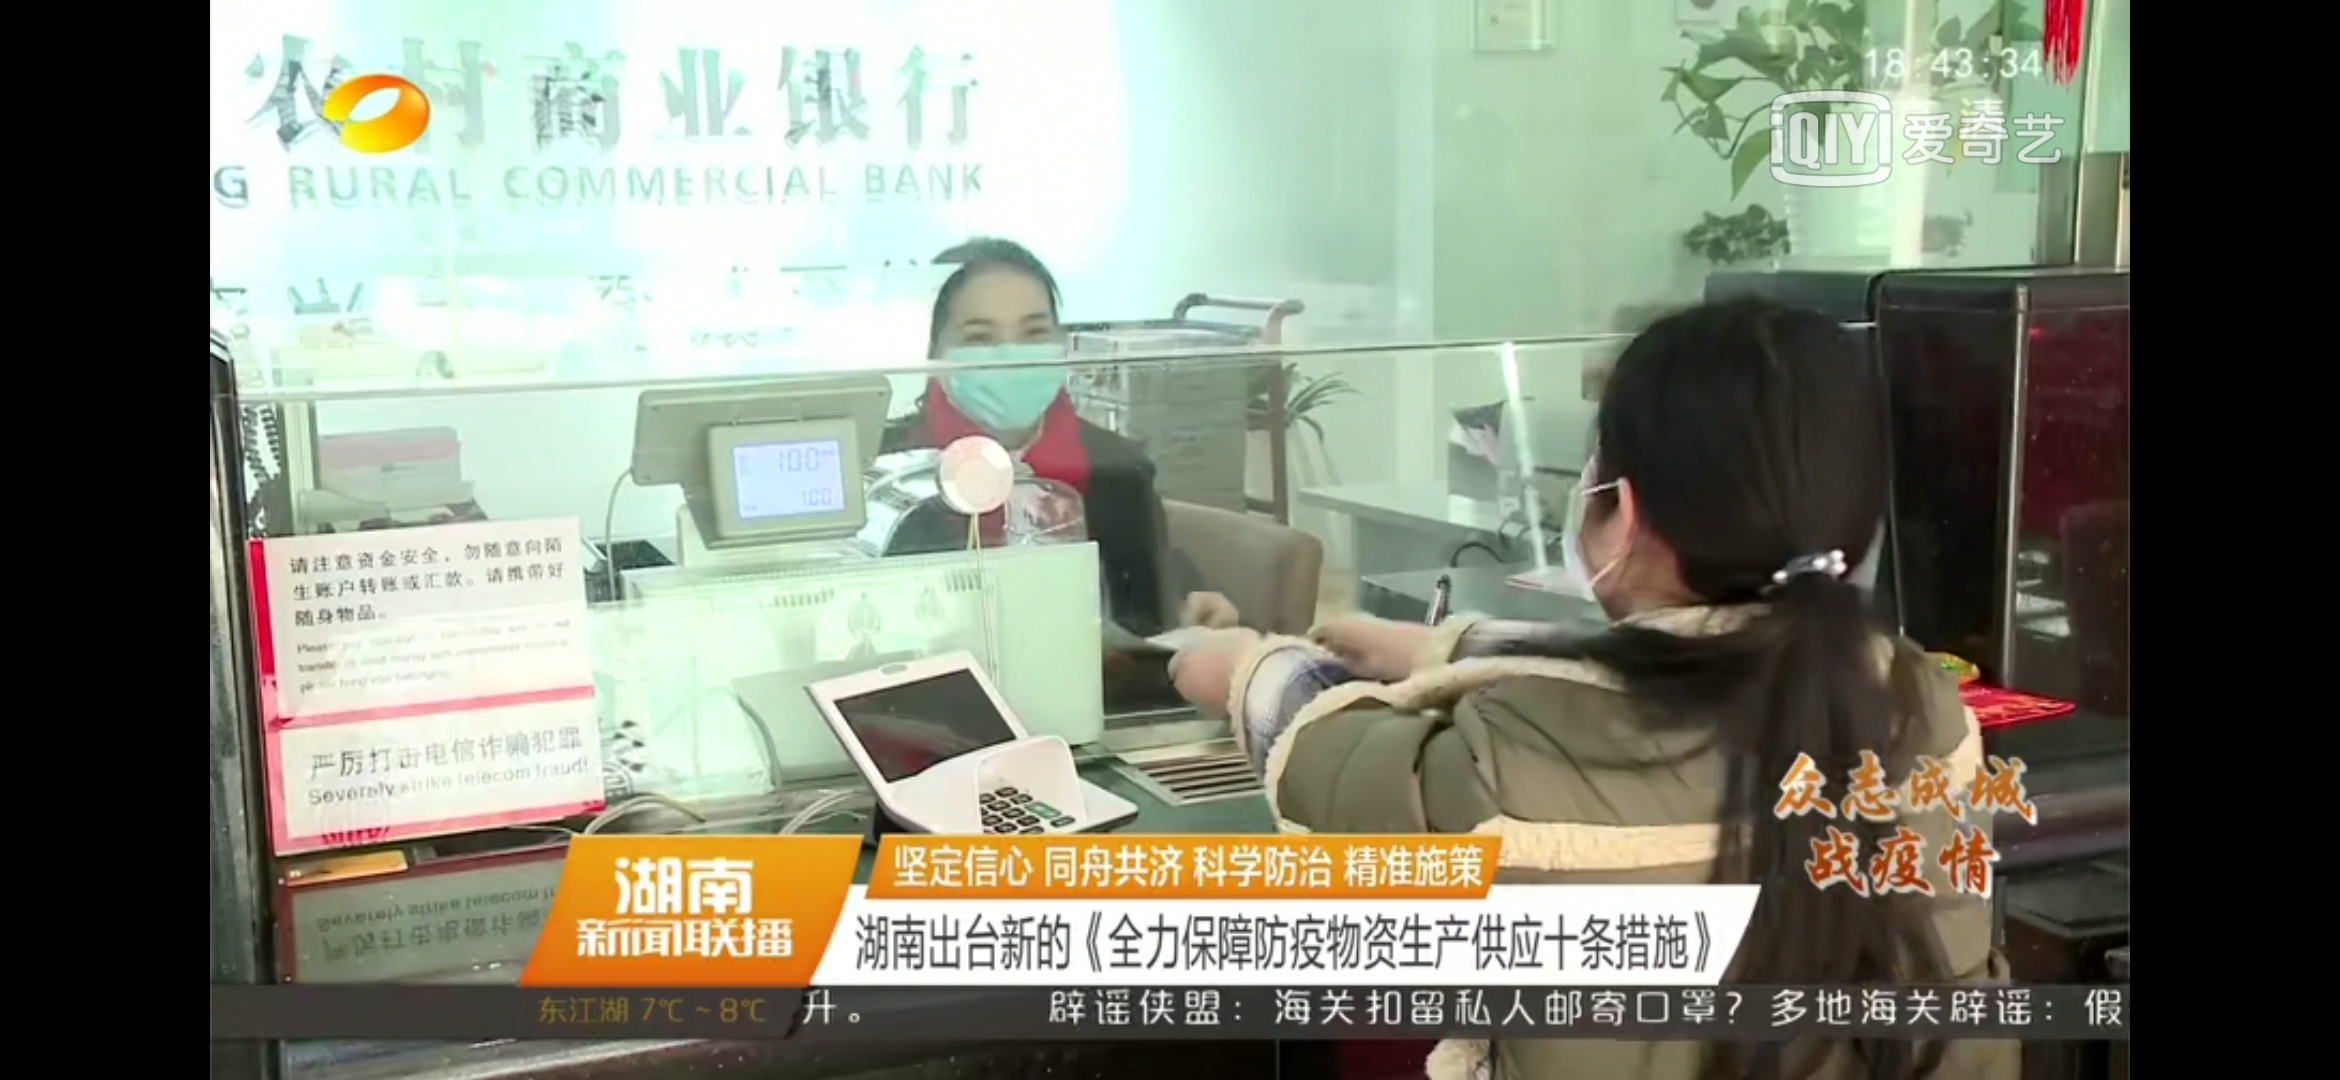correctlyWear: (1554, 422, 1648, 628), (933, 303, 1074, 433)
